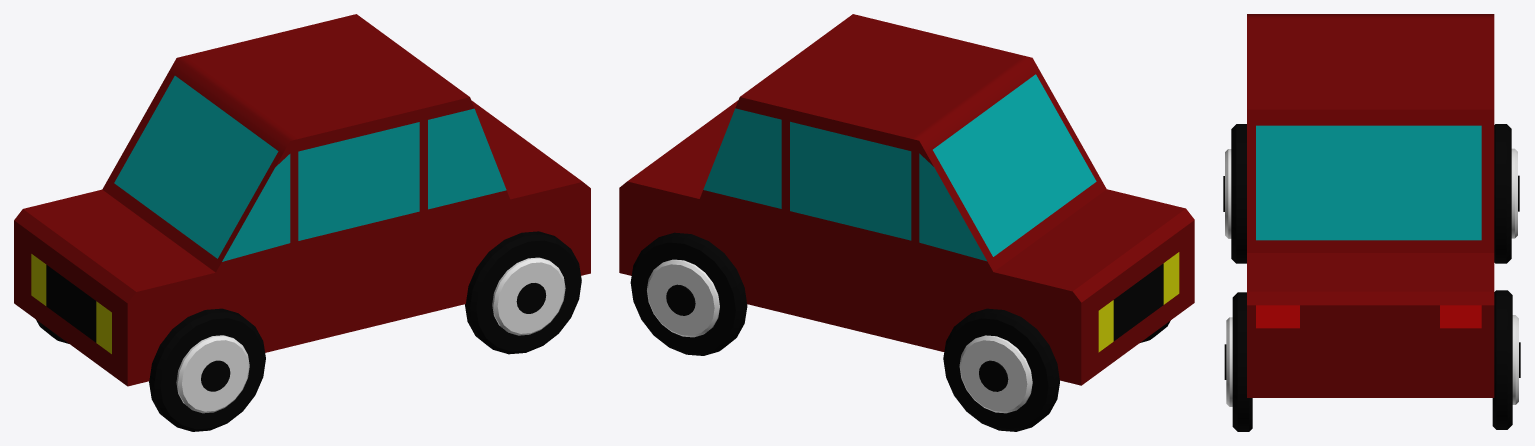
The model's file is CarOne_new.fbx.
3 views of the same model, side by side, from view 1: azimuth 30°, elevation 25°; view 2: azimuth 150°, elevation 25°; view 3: azimuth 270°, elevation 25° (orthographic). The views are drawn at different scales.
Parts seen in each view (by area): view 1: pCube49, pCylinder6, pCylinder7; view 2: pCube49, pCylinder9, pCylinder8; view 3: pCube49, pCylinder8, pCylinder9, pCylinder7, pCylinder6.
Part boxes in pixels (x1,y1,x2,y2): pCube49: [14, 14, 590, 386]; pCylinder6: [149, 308, 265, 431]; pCylinder7: [465, 231, 581, 354]; pCube49: [619, 14, 1194, 385]; pCylinder9: [943, 308, 1059, 431]; pCylinder8: [630, 232, 747, 355]; pCube49: [1247, 14, 1494, 397]; pCylinder8: [1492, 290, 1520, 429]; pCylinder9: [1494, 124, 1519, 263]; pCylinder7: [1224, 292, 1252, 431]; pCylinder6: [1223, 124, 1246, 263].
Size of the model in its own units: 2.36 by 1.29 by 1.2.
